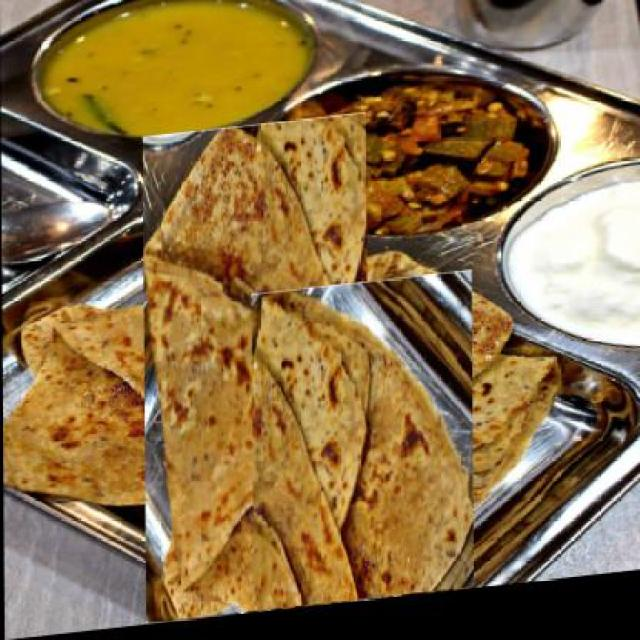chapati: (72, 185, 442, 586), (208, 319, 520, 621)
